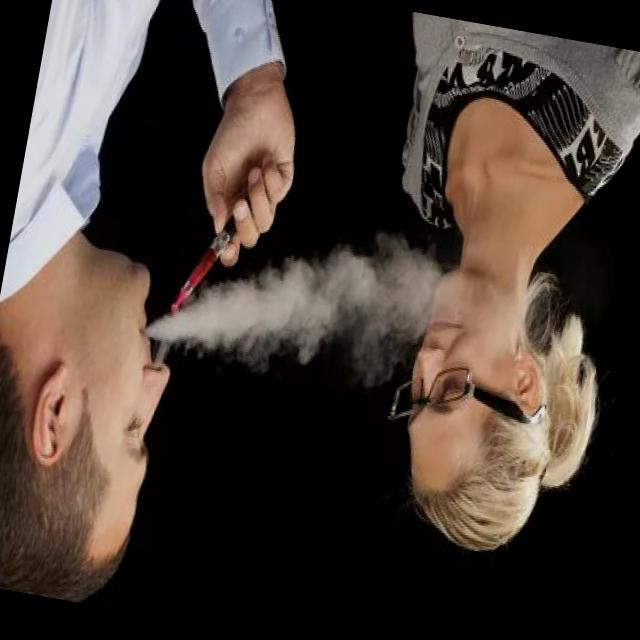cigarette: (163, 183, 250, 332)
